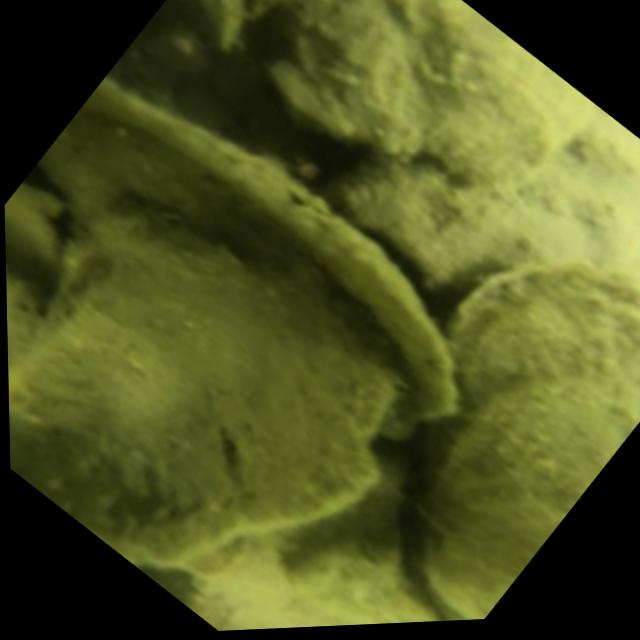Oyster-Indeterminate: (42, 72, 458, 456), (8, 198, 406, 571), (420, 260, 640, 620), (263, 0, 599, 196)
